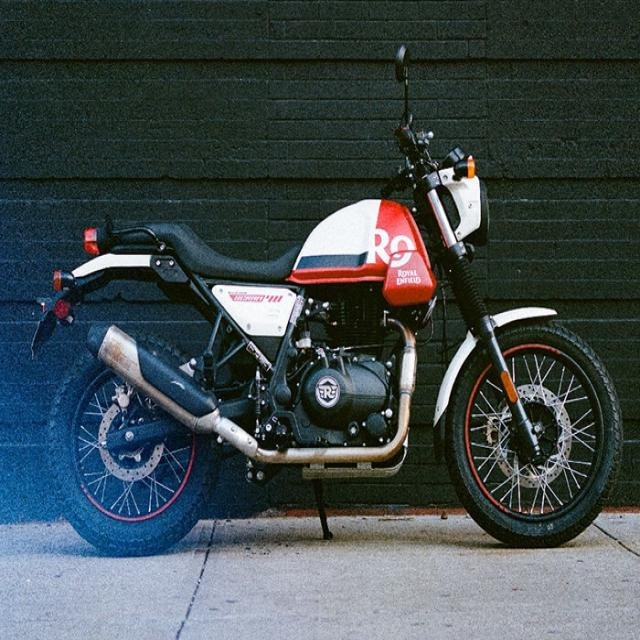motorcycle: (35, 48, 620, 553)
